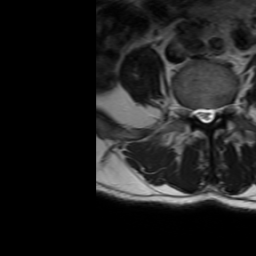CCS_stenosis: (203, 99, 209, 129)
LFS_normal: (217, 99, 225, 121)
LLS_normal: (209, 100, 217, 125)
RFS_normal: (186, 99, 195, 125)
RLS_normal: (195, 100, 203, 127)
